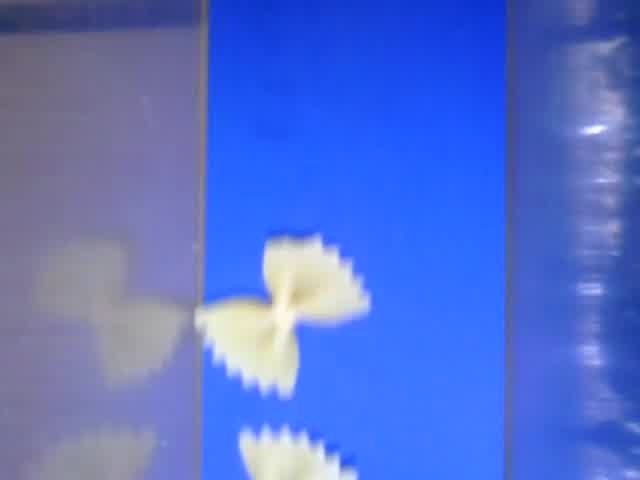farfalle: (194, 232, 375, 400), (238, 424, 361, 480)
